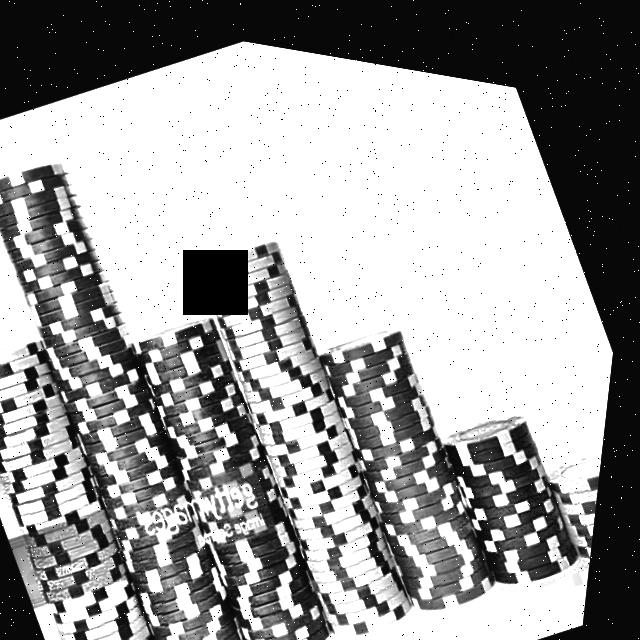Chip: (0, 134, 318, 640), (166, 207, 469, 640), (106, 280, 387, 640), (292, 284, 541, 623), (0, 309, 232, 640), (427, 368, 613, 594), (542, 402, 612, 558)
